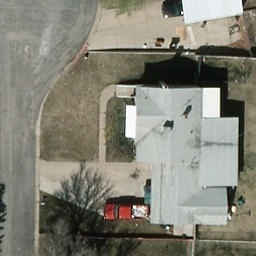car: (161, 2, 198, 18)
pickup: (104, 204, 151, 220)
